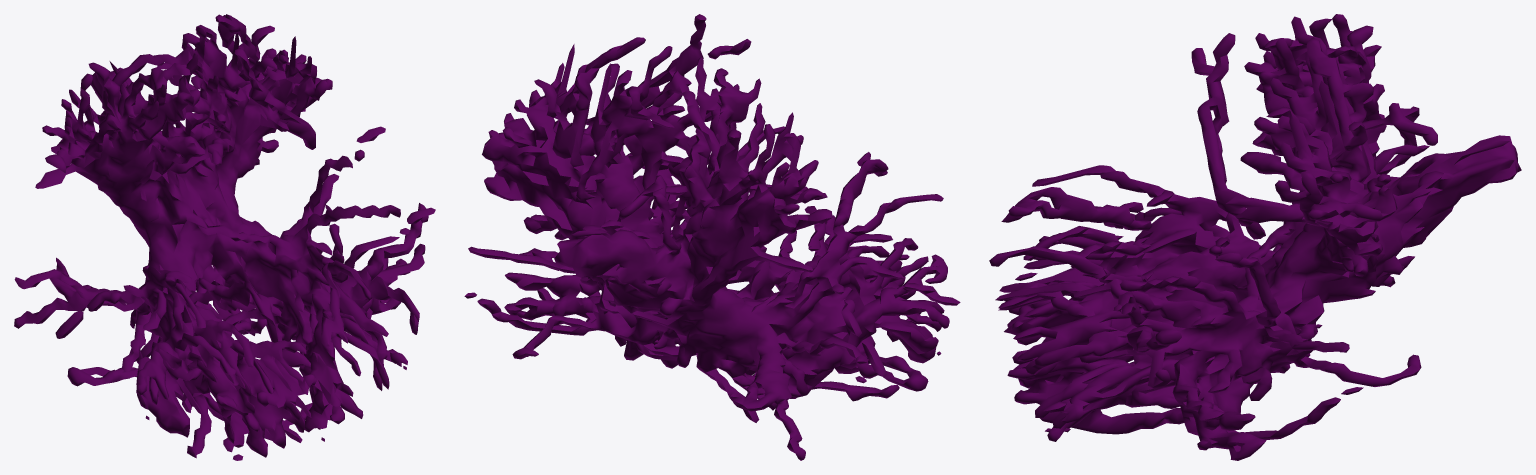
Rendered from Pyramidal_tracts.obj.
The picture shows the model from 3 angles, left to right: view 1: azimuth 30°, elevation 25°; view 2: azimuth 150°, elevation 25°; view 3: azimuth 270°, elevation 25°; orthographic projection. The views are drawn at different scales.
Parts seen in each view (by area): view 1: grp1; view 2: grp1; view 3: grp1.
Part boxes in pixels (x1,y1,x2,y2): grp1: (14,14,435,460); grp1: (464,14,960,460); grp1: (989,14,1521,460).
Bounding box in the file's own units: 118 × 115 × 135.
